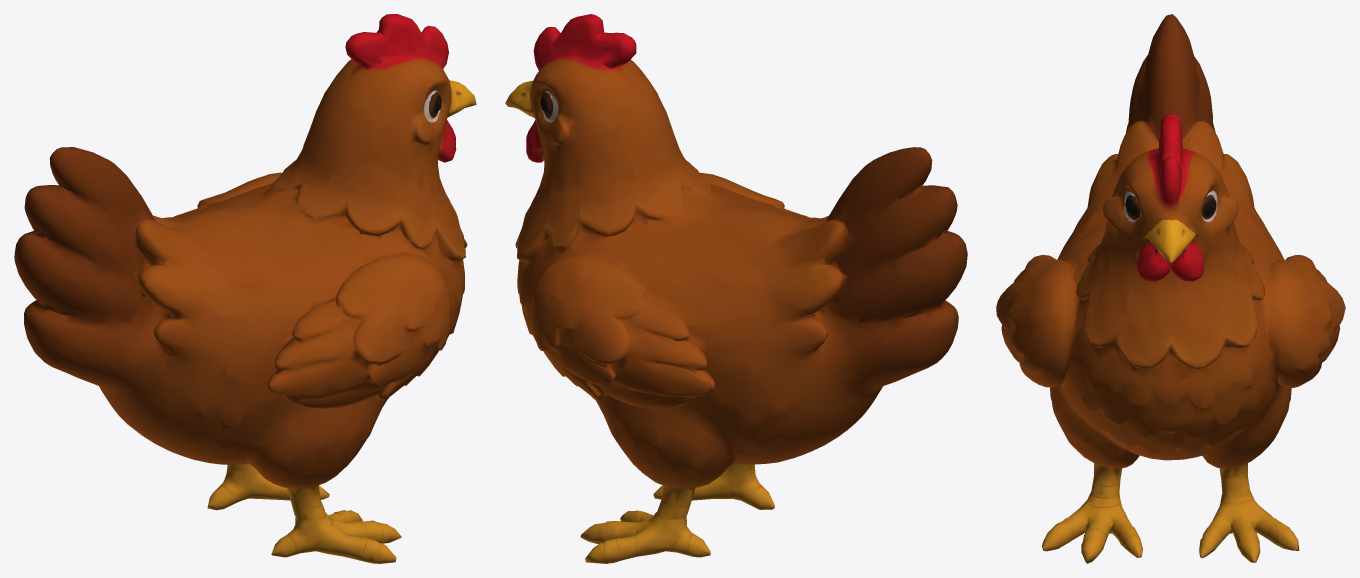
The model's file is chicken.glb.
3 views of the same model, side by side, from view 1: azimuth 30°, elevation 25°; view 2: azimuth 150°, elevation 25°; view 3: azimuth 270°, elevation 25° (orthographic). The views are drawn at different scales.
Visible parts, largest first — view 1: tripo_node_4bf48e4e-2e84-4497-bf58-d3d5c56582a4; view 2: tripo_node_4bf48e4e-2e84-4497-bf58-d3d5c56582a4; view 3: tripo_node_4bf48e4e-2e84-4497-bf58-d3d5c56582a4.
Boxes of the visible parts, x1,y1,x2,y2 form: tripo_node_4bf48e4e-2e84-4497-bf58-d3d5c56582a4: (14,14,476,563); tripo_node_4bf48e4e-2e84-4497-bf58-d3d5c56582a4: (505,14,967,563); tripo_node_4bf48e4e-2e84-4497-bf58-d3d5c56582a4: (996,14,1345,563).
Size of the model in its own units: 0.9886 by 1 by 0.6827.
Materials: 1 (1 with a texture image).
